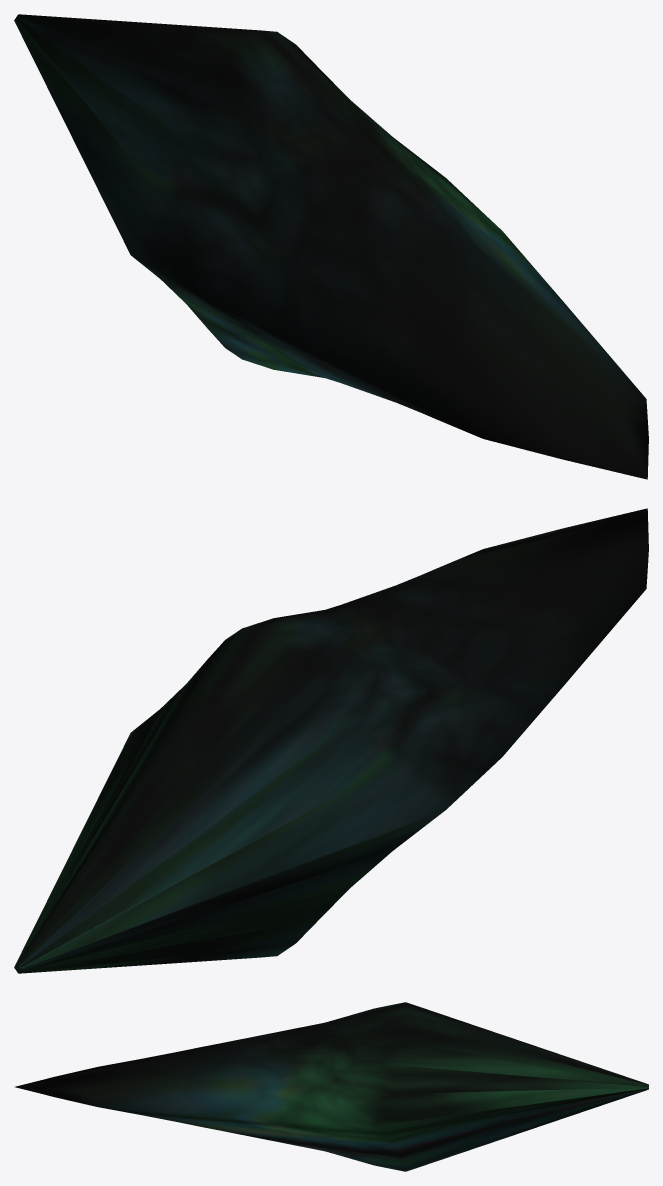
Rendered from beholder.obj.
The picture shows the model from 3 angles, top to bottom: view 1: azimuth 30°, elevation 25°; view 2: azimuth 150°, elevation 25°; view 3: azimuth 270°, elevation 25°; orthographic projection. The views are drawn at different scales.
Size of the model in its own units: 10.71 by 10.71 by 36.96.
2 materials, 2 textured.
